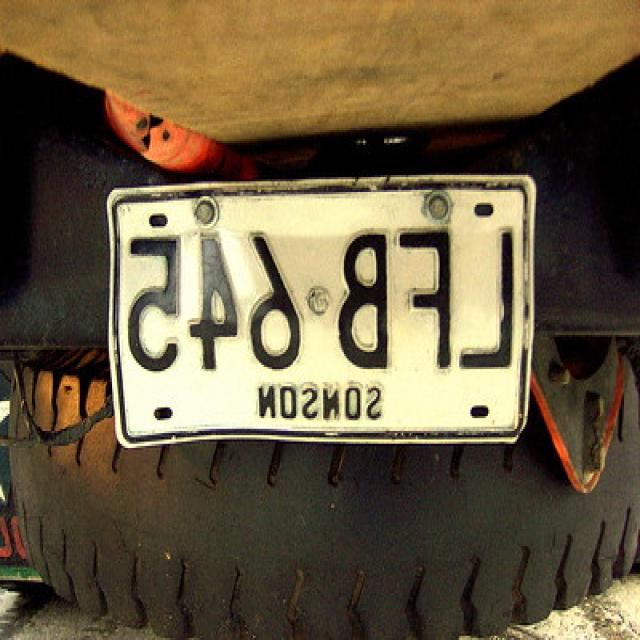placas: (120, 216, 524, 376)
